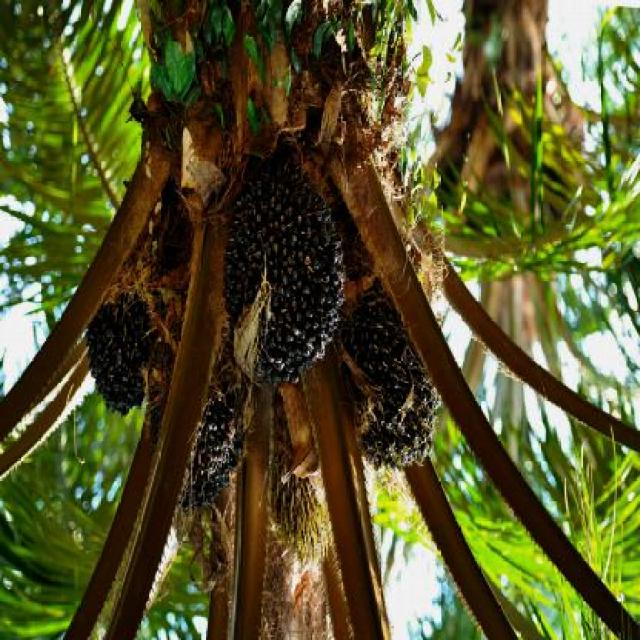palm-oil: (352, 297, 451, 468), (268, 158, 344, 372), (181, 353, 248, 505), (92, 298, 160, 414)
